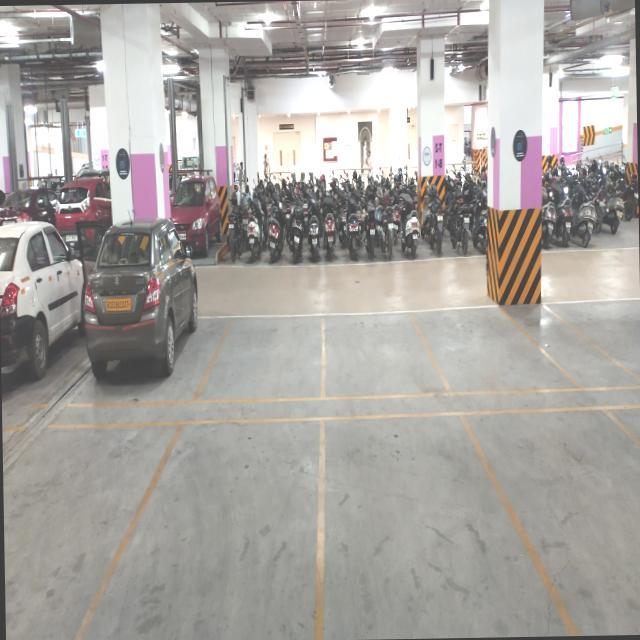car: (105, 294, 204, 383), (4, 284, 61, 396)
free: (476, 396, 640, 629), (182, 427, 322, 635), (348, 434, 467, 636), (9, 437, 130, 608), (327, 316, 422, 398), (220, 322, 323, 396), (452, 297, 516, 388)
